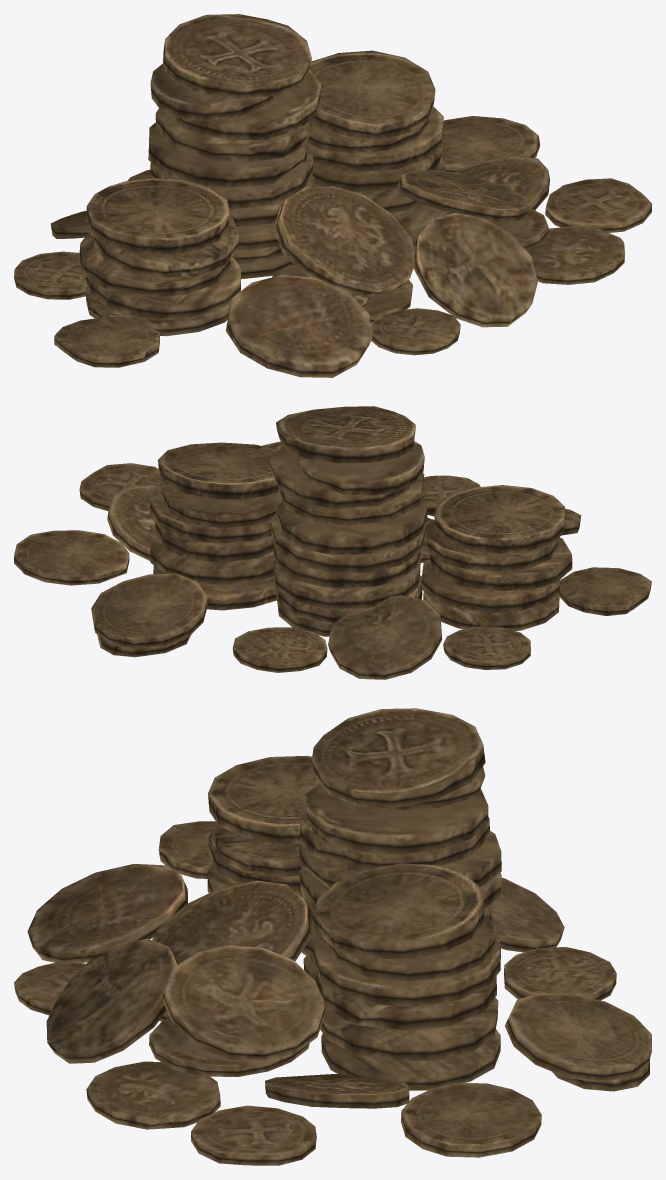
The model's file is d_coin_stack_small.glb.
3 renders of one model, top to bottom at view 1: azimuth 30°, elevation 25°; view 2: azimuth 150°, elevation 25°; view 3: azimuth 270°, elevation 25°, orthographic. The views are drawn at different scales.
Visible parts, largest first — view 1: d_coin_stack_small; view 2: d_coin_stack_small; view 3: d_coin_stack_small.
Boxes of the visible parts, x1,y1,x2,y2 form: d_coin_stack_small: (14, 14, 651, 377); d_coin_stack_small: (14, 406, 651, 679); d_coin_stack_small: (14, 708, 651, 1165).
Size of the model in its own units: 0.9591 by 0.3356 by 0.7733.
Materials: 1 (1 with a texture image).
